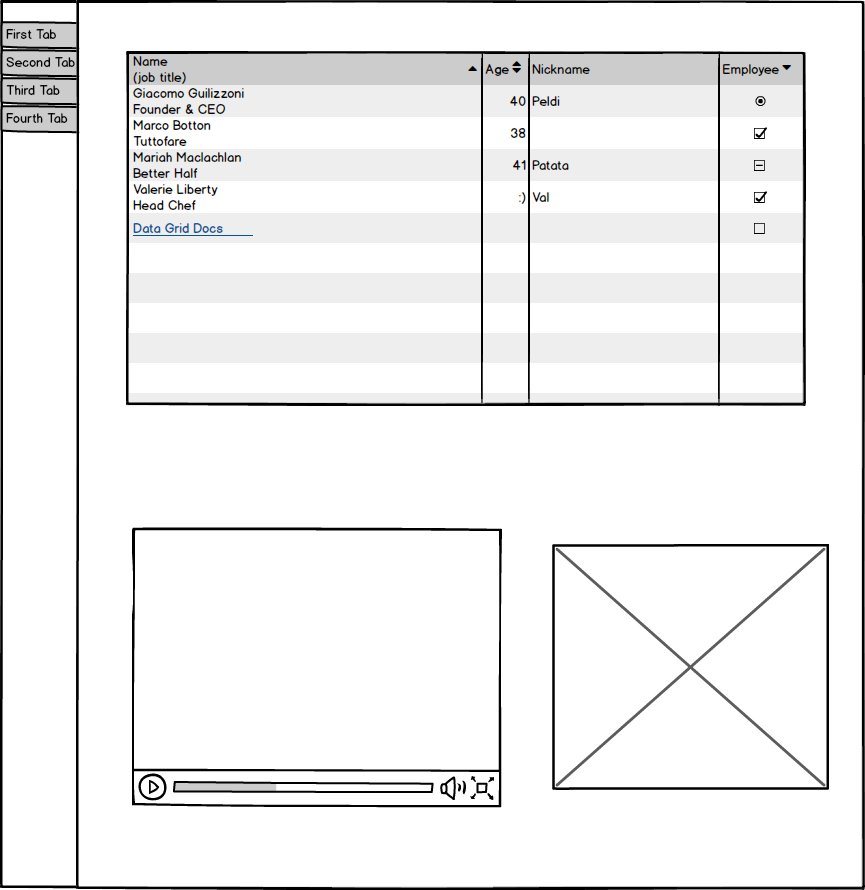image: (544, 543, 836, 797)
sidebar: (5, 17, 87, 136)
table: (120, 47, 814, 412)
video: (126, 520, 506, 816)
